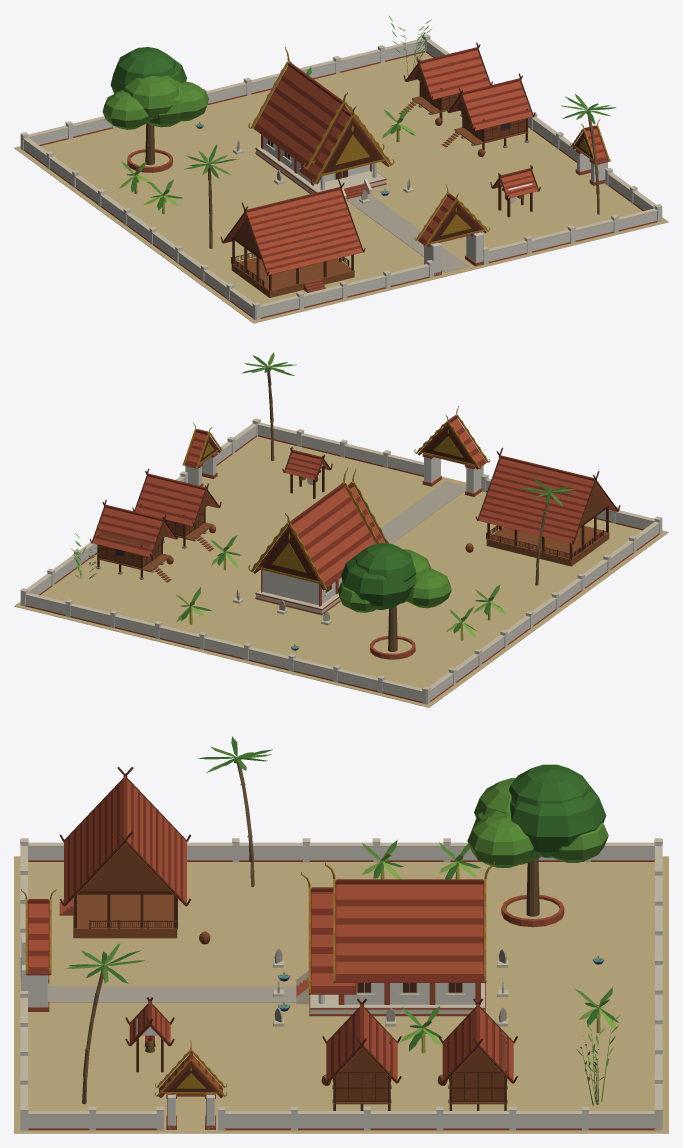
File: temple_1.glb
3 renders of one model, top to bottom at view 1: azimuth 30°, elevation 25°; view 2: azimuth 150°, elevation 25°; view 3: azimuth 270°, elevation 25°, orthographic. The views are drawn at different scales.
Parts seen in each view (by area): view 1: body; view 2: body; view 3: body.
Boxes of the visible parts, bbox=[...] form: body: bbox=[14, 15, 668, 323]; body: bbox=[14, 352, 668, 707]; body: bbox=[14, 736, 668, 1133].
Size of the model in its own units: 47.9 by 11.89 by 47.9.
